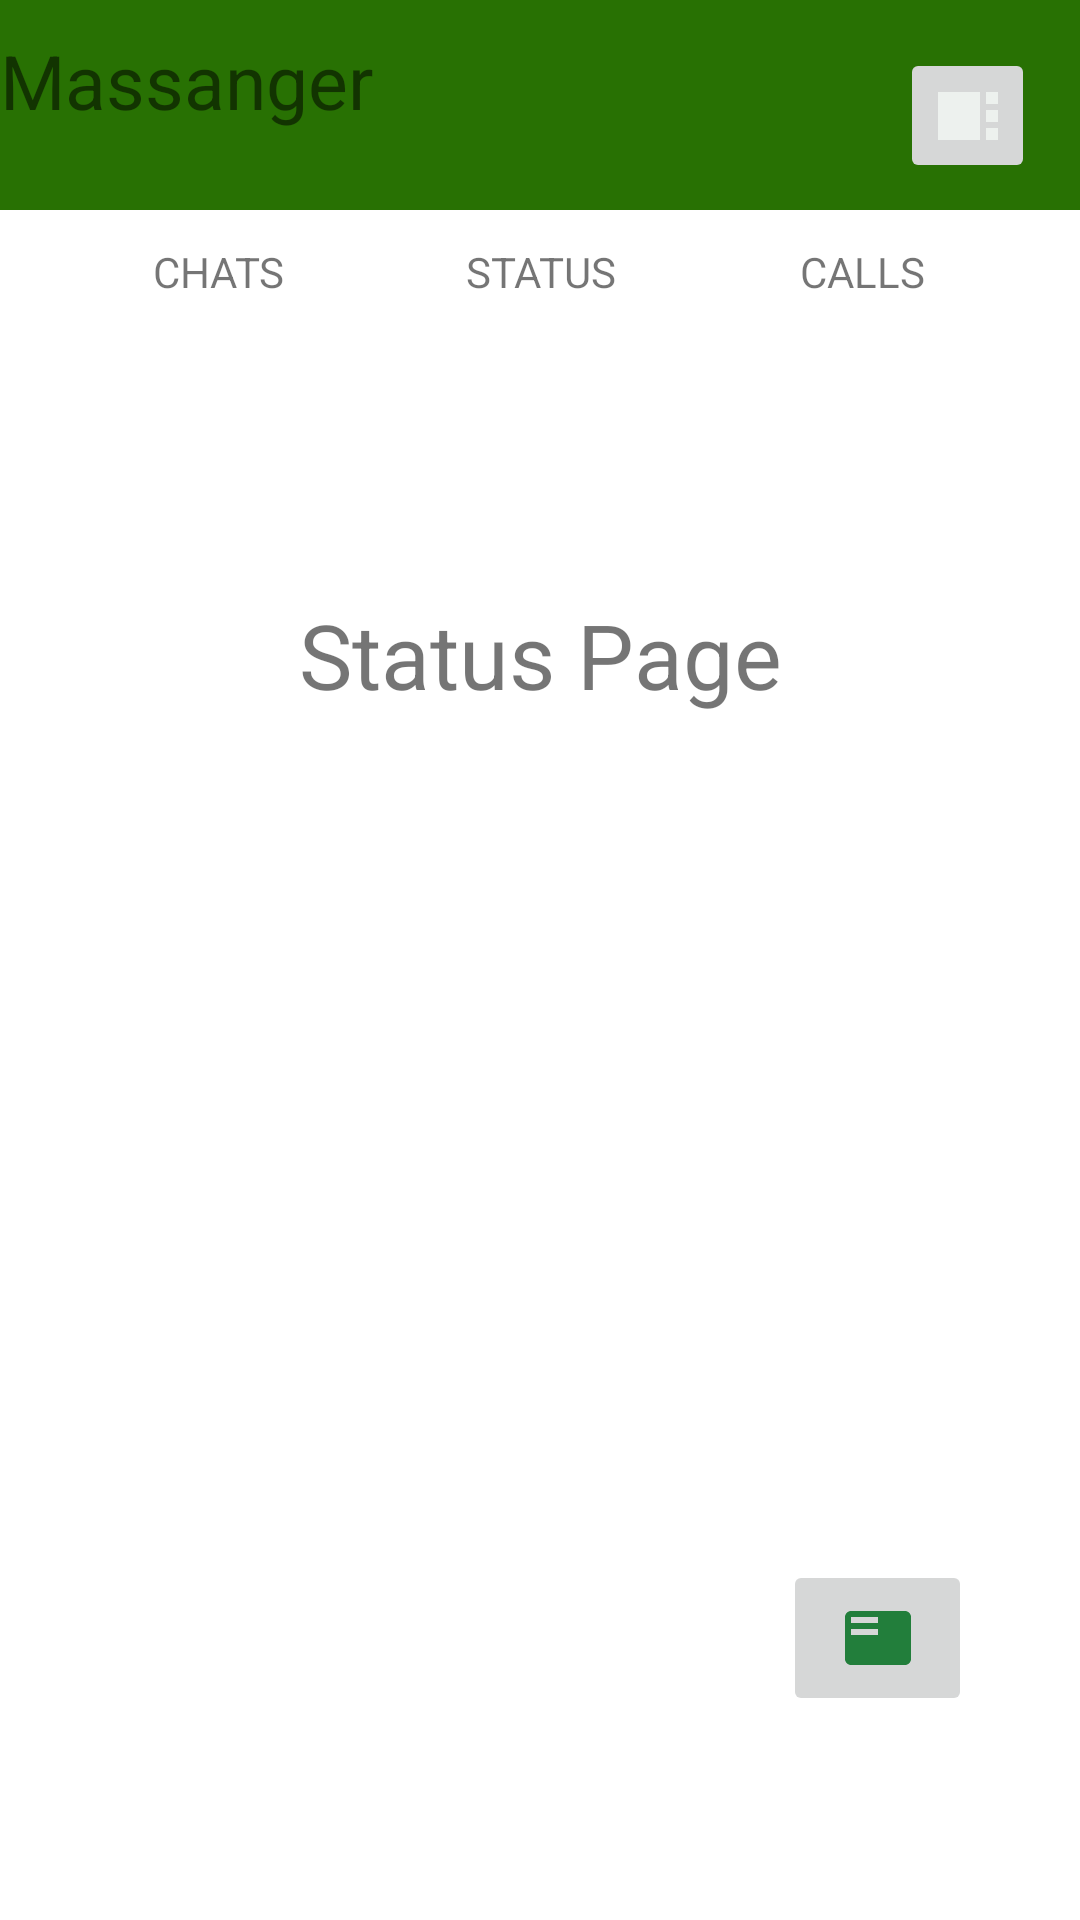

Screen size 1080px x 1920px. Icon name, then its box in pixels as (x1, y1, x2, y2):
view sidebar: (912, 66, 1023, 165)
